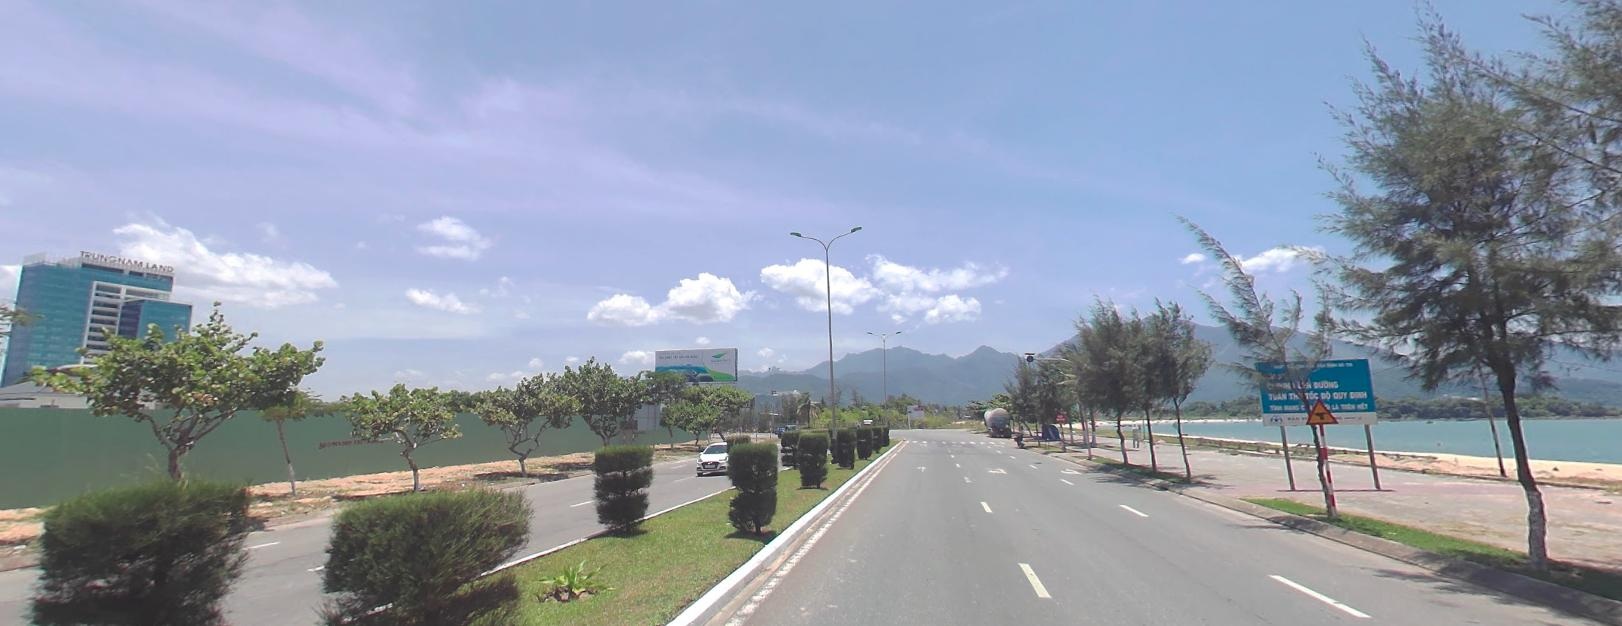Hieu lenh: (1043, 424, 1058, 438)
Nguy hiem: (1304, 397, 1338, 422)
